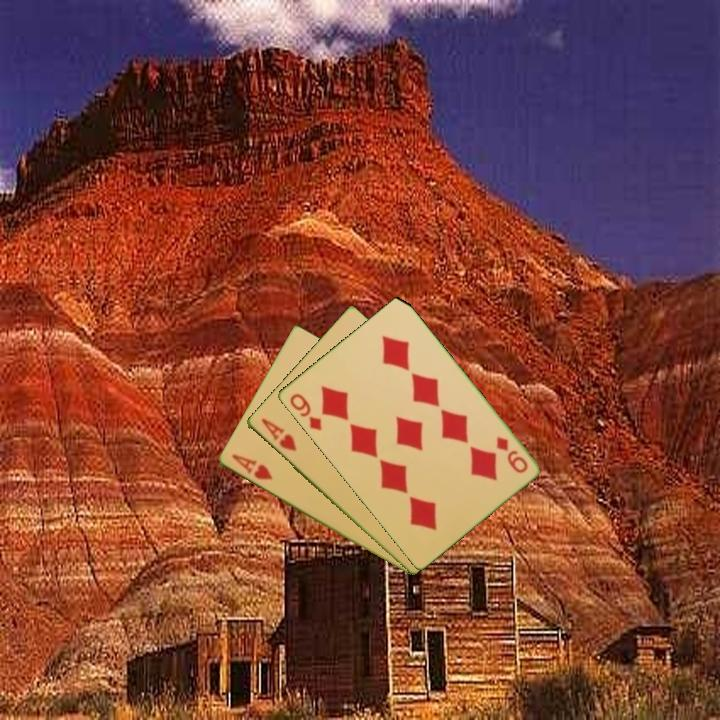9d: (492, 433, 531, 476), (286, 390, 324, 433)
Ah: (257, 414, 299, 454), (227, 450, 275, 483)
